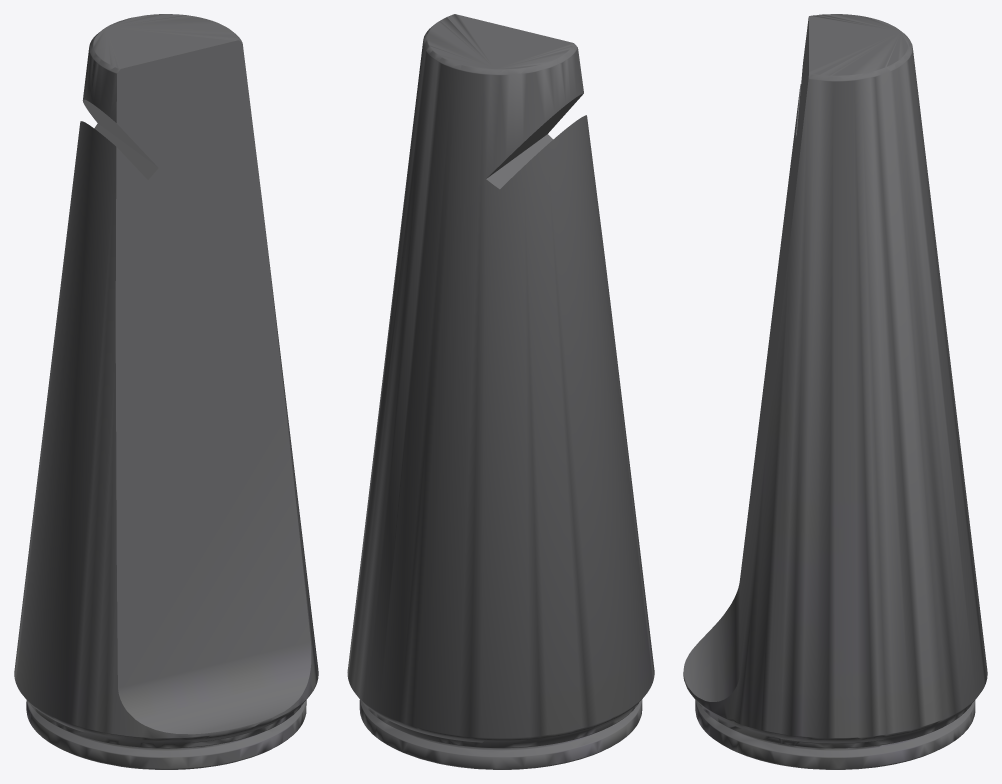
The model's file is 03_strelec_cerna.glb.
The picture shows the model from 3 angles, left to right: view 1: azimuth 30°, elevation 25°; view 2: azimuth 150°, elevation 25°; view 3: azimuth 270°, elevation 25°; orthographic projection.
Visible parts, largest first — view 1: 03_strelec_cerna; view 2: 03_strelec_cerna; view 3: 03_strelec_cerna.
Boxes of the visible parts, <box> form: 03_strelec_cerna: <box>14,14,318,769</box>; 03_strelec_cerna: <box>347,14,654,769</box>; 03_strelec_cerna: <box>683,14,987,769</box>.
Bounding box in the file's own units: 0.0332 × 0.0803 × 0.0332.
1 material, 1 textured.
